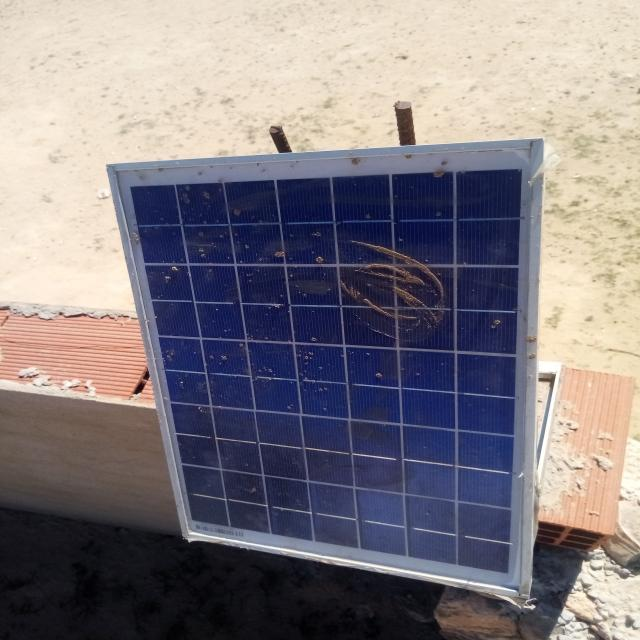faulty: (113, 145, 537, 597)
